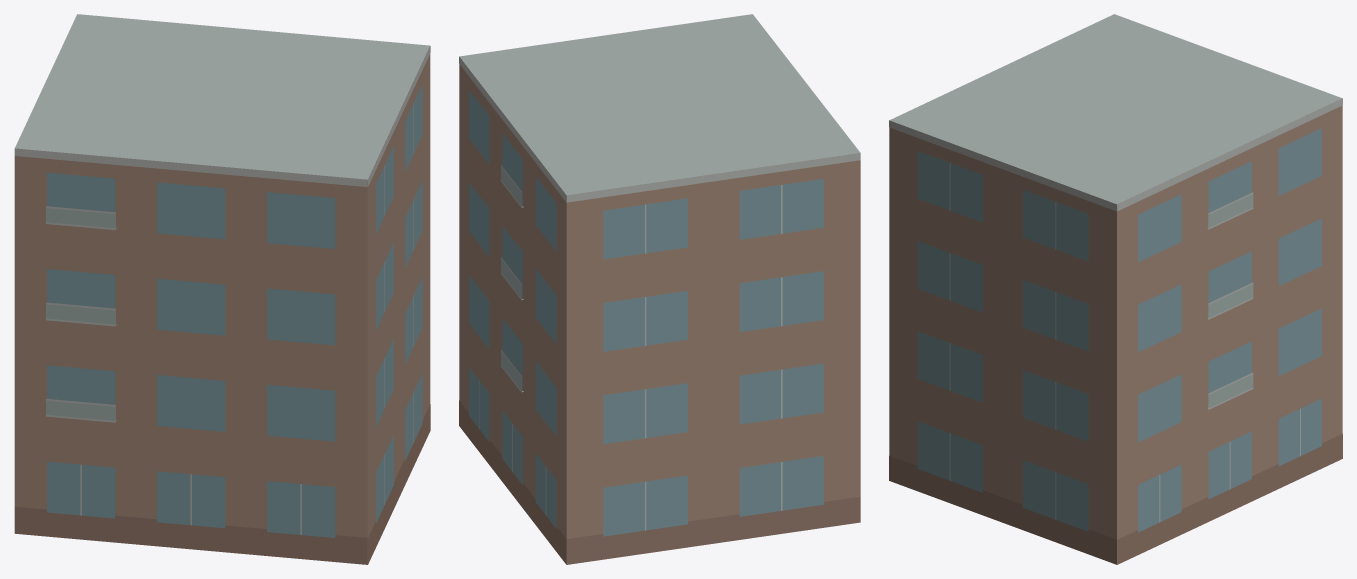
The model's file is survey-upis-32777511.glb.
3 views of the same model, side by side, from view 1: azimuth 30°, elevation 25°; view 2: azimuth 150°, elevation 25°; view 3: azimuth 270°, elevation 25° (orthographic). The views are drawn at different scales.
Visible parts, largest first — view 1: survey-upis-32777511.tmp; view 2: survey-upis-32777511.tmp; view 3: survey-upis-32777511.tmp.
Part boxes in pixels (left/top/right/bottom): survey-upis-32777511.tmp: left=14, top=14, right=430, bottom=564; survey-upis-32777511.tmp: left=459, top=14, right=860, bottom=564; survey-upis-32777511.tmp: left=889, top=14, right=1342, bottom=564.
Bounding box in the file's own units: 14.17 × 12.5 × 14.26.
